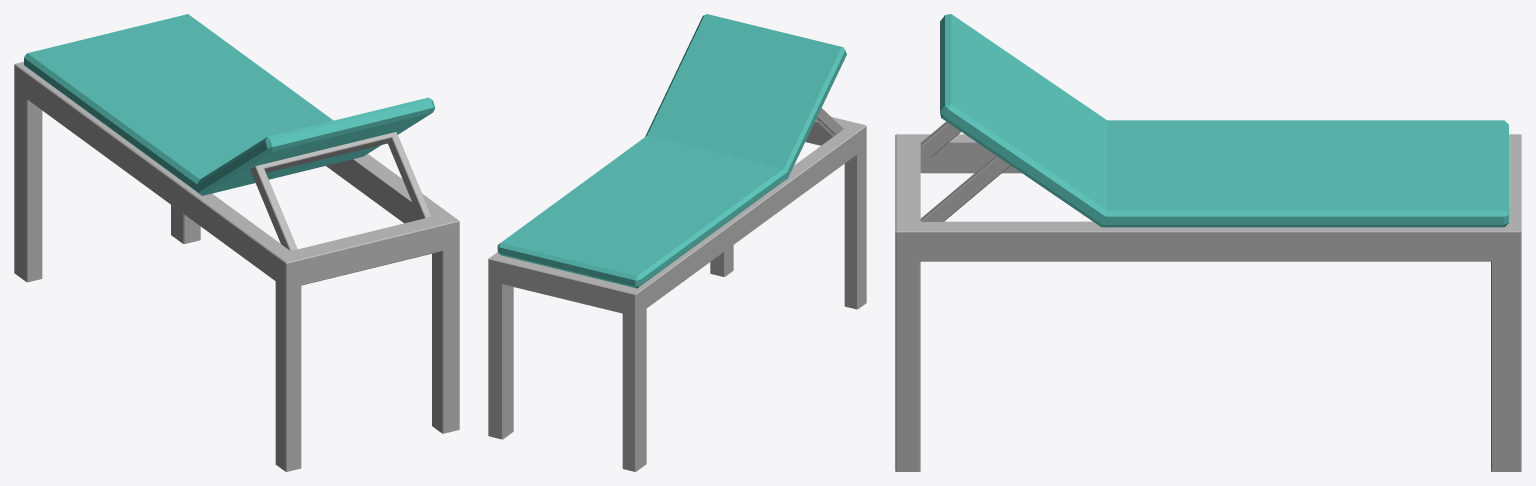
Rendered from Medbed (updated).fbx.
3 views of the same model, side by side, from view 1: azimuth 30°, elevation 25°; view 2: azimuth 150°, elevation 25°; view 3: azimuth 270°, elevation 25° (orthographic). The views are drawn at different scales.
Parts seen in each view (by area): view 1: polySurface18; view 2: polySurface18; view 3: polySurface18.
Boxes of the visible parts, bbox=[...] form: polySurface18: bbox=[14, 14, 459, 471]; polySurface18: bbox=[488, 14, 866, 471]; polySurface18: bbox=[895, 14, 1521, 471].
Size of the model in its own units: 240 by 416 by 650.
